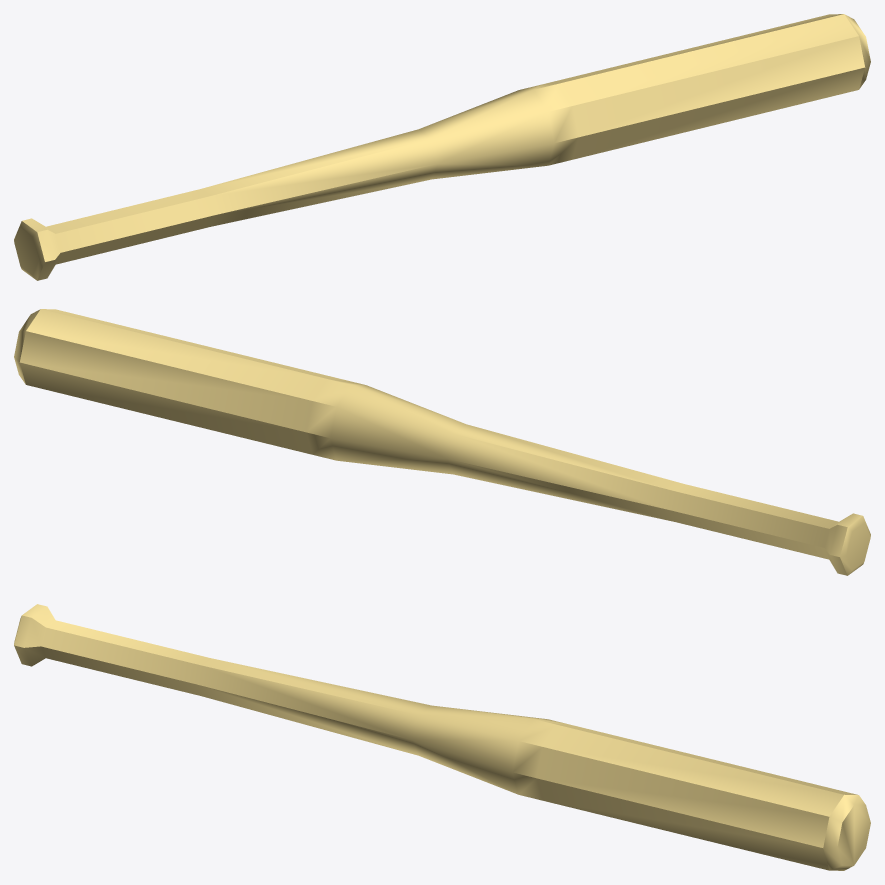
File: taco_beisebol_pacote.glb
The picture shows the model from 3 angles, top to bottom: view 1: azimuth 30°, elevation 25°; view 2: azimuth 150°, elevation 25°; view 3: azimuth 330°, elevation 25°; orthographic projection.
Visible parts, largest first — view 1: taco_beisebol_pacote; view 2: taco_beisebol_pacote; view 3: taco_beisebol_pacote.
Boxes of the visible parts, <box> form: taco_beisebol_pacote: <box>14,14,870,280</box>; taco_beisebol_pacote: <box>14,309,870,575</box>; taco_beisebol_pacote: <box>14,604,870,870</box>.
Size of the model in its own units: 1.12 by 0.098 by 0.098.
1 material, 1 textured.
